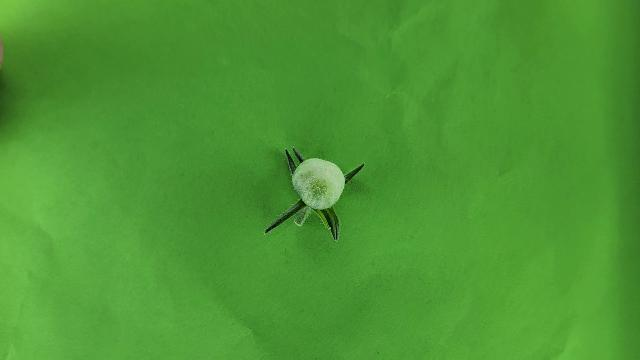Fruit Maturation: (293, 159, 345, 208)
